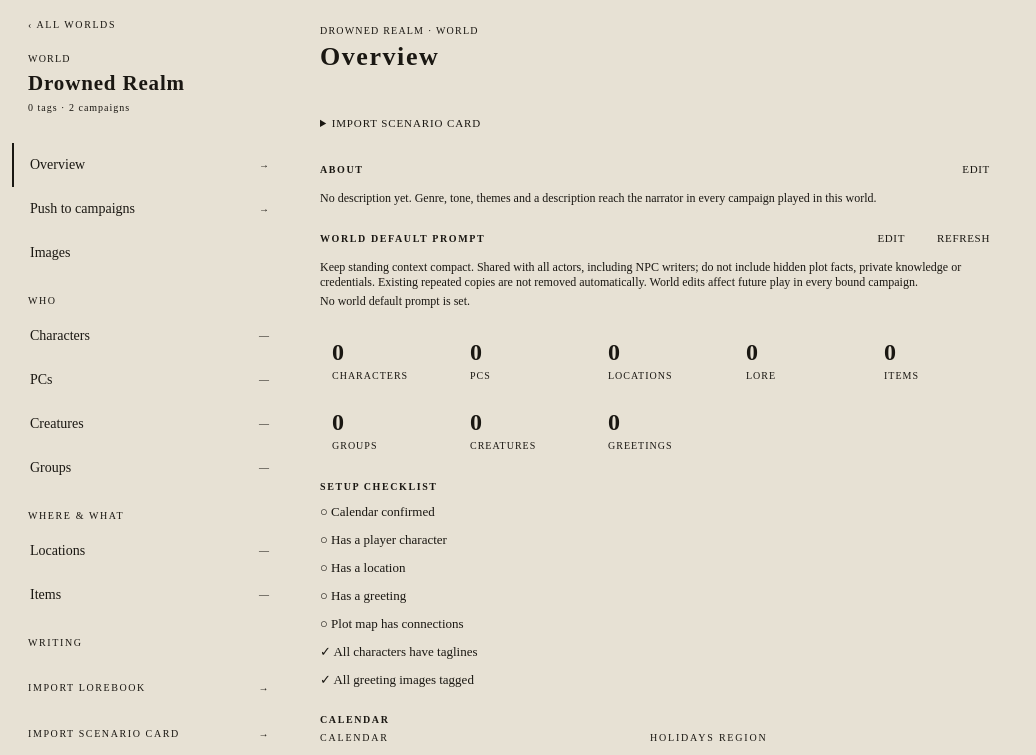
Test: picking PCs renders the PC editor
Expected: the heading "Drowned Realm" is shown, [28,70,185,94]
Click the link "PCs —" at (41, 379), box [30,372,270,387]
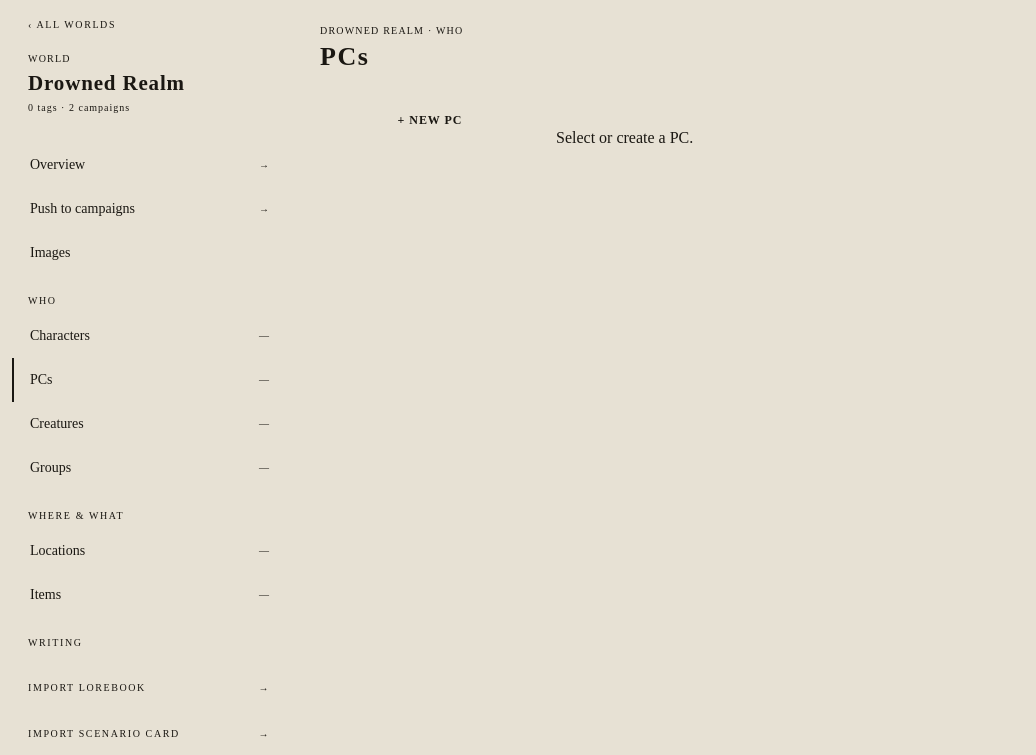
Result: the link "+ New PC" is shown at [398,113,462,127]
